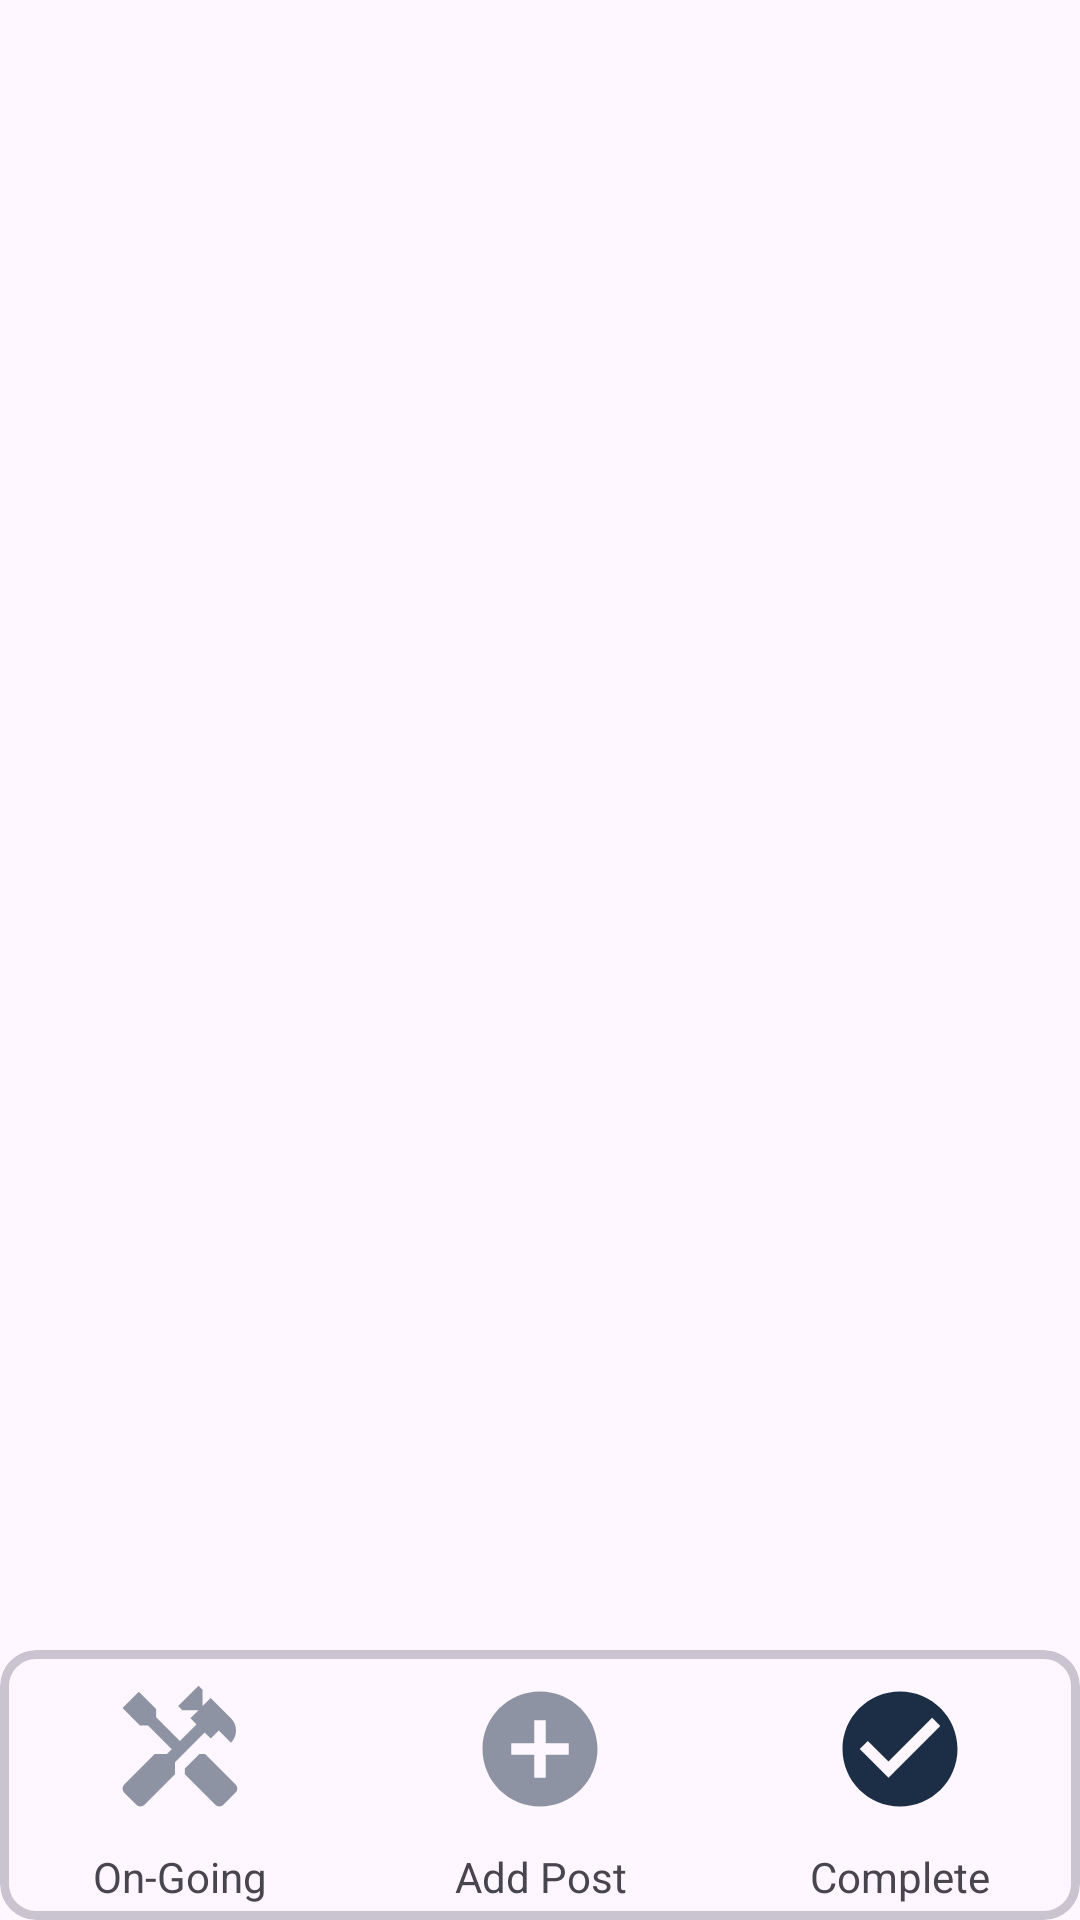

Icon click points for this 1080px x 1920px phone screenshot, format (x,y):
repair: (180,1746)
